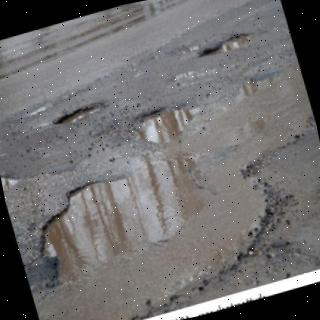pothole: (43, 157, 201, 279), (138, 107, 193, 144), (50, 102, 105, 127), (196, 34, 249, 56)
